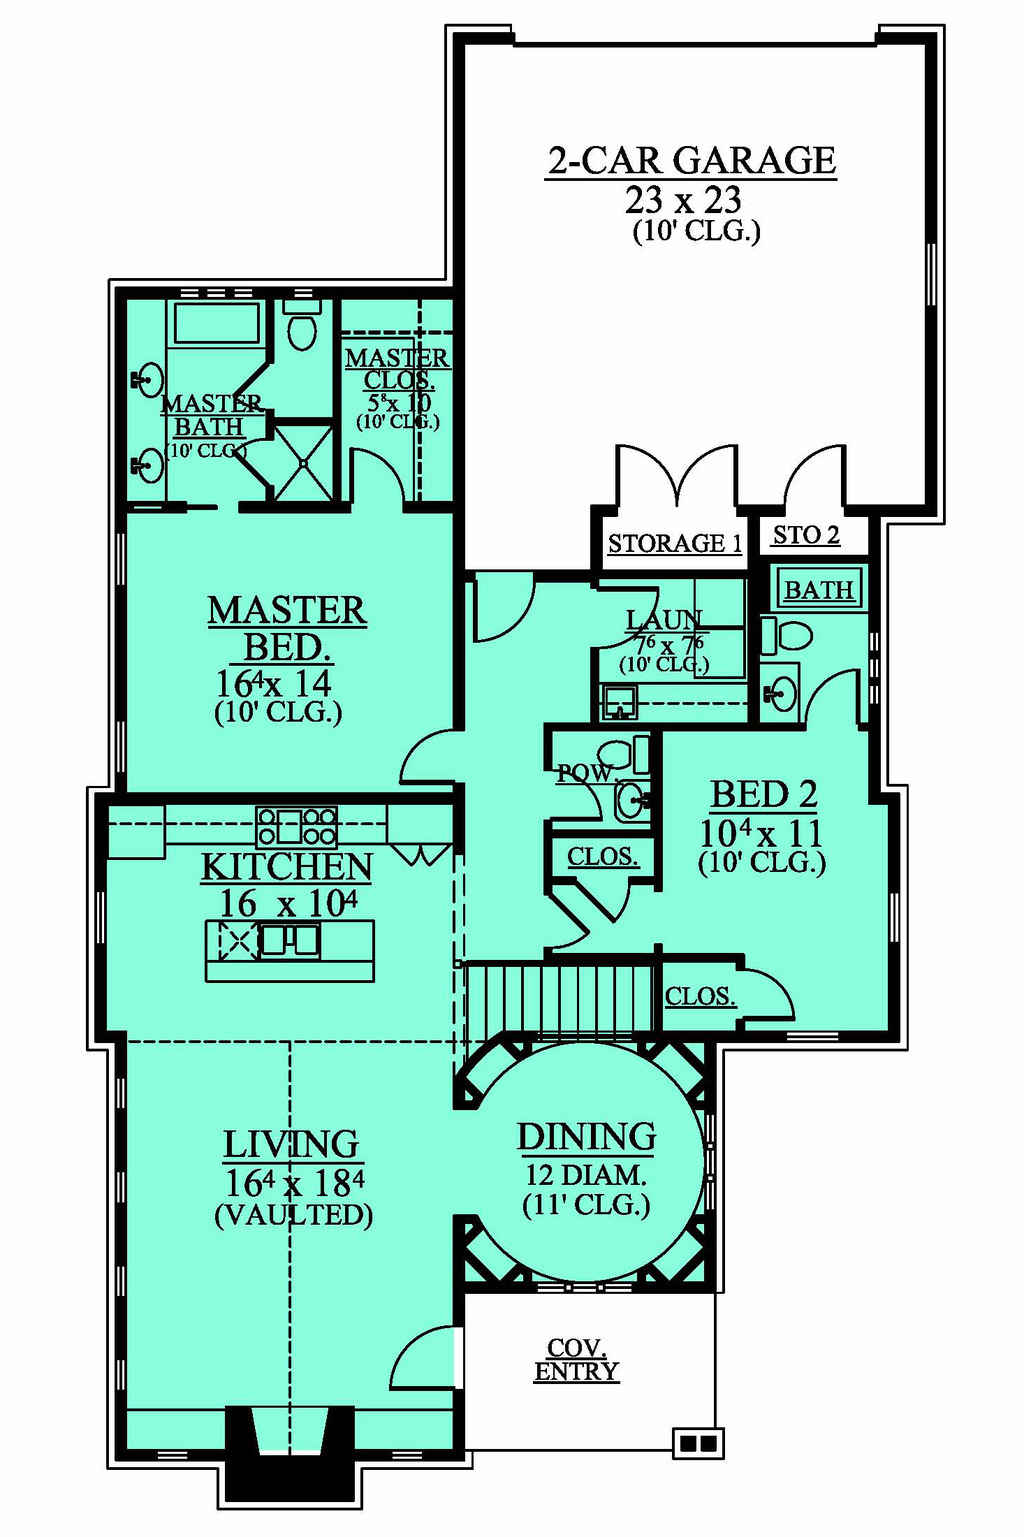door: (613, 445, 753, 519), (579, 574, 665, 662), (777, 445, 857, 519), (379, 1321, 459, 1393), (467, 574, 538, 648), (389, 726, 469, 788), (331, 441, 405, 505), (567, 862, 638, 922), (546, 765, 607, 833), (729, 964, 795, 1022), (534, 895, 593, 956), (805, 669, 869, 725), (229, 437, 291, 491)
kitchen_bar: (191, 903, 384, 1000)
large_sink: (577, 717, 655, 788), (760, 610, 843, 667), (281, 288, 331, 360)
small_sink: (115, 298, 169, 510), (760, 653, 798, 736), (617, 783, 667, 833)
stairs: (448, 945, 725, 1041)
tub: (157, 295, 274, 353), (774, 560, 862, 614)
